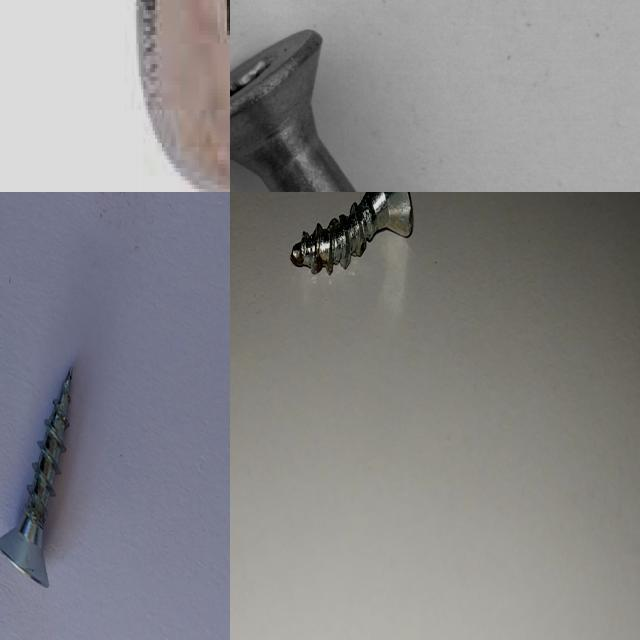Screw: (230, 7, 637, 192), (134, 0, 230, 192), (0, 367, 72, 587), (290, 192, 413, 273)
